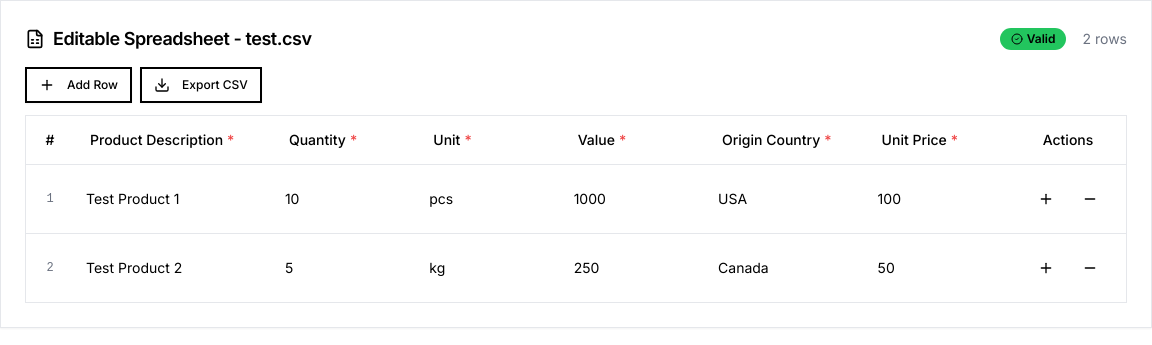
Test case: EditableSpreadsheet Component › Save Functionality › shows save button when data changes
Check: the text "Save Changes" is not shown
Make a change
Click the text "Test Product 1" at {"x": 133, "y": 198}, box [86,188,180,208]
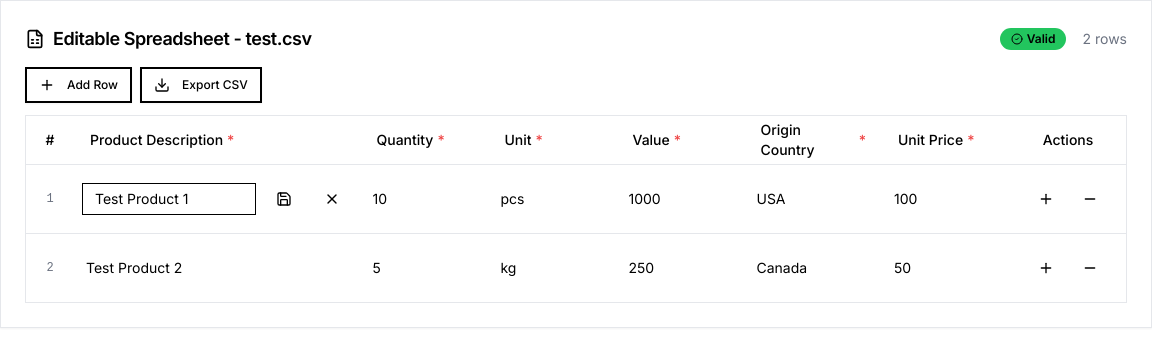
Replace the text in the field showing "Test Product 1" with "Modified Product" at {"x": 169, "y": 198}, box [82,182,256,214]
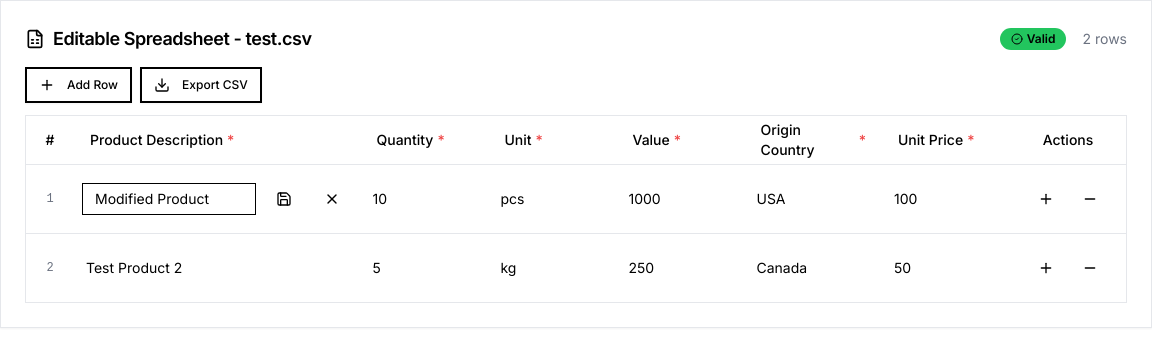
Click the button titled "Save edit" at {"x": 284, "y": 198}, box [264,180,304,216]
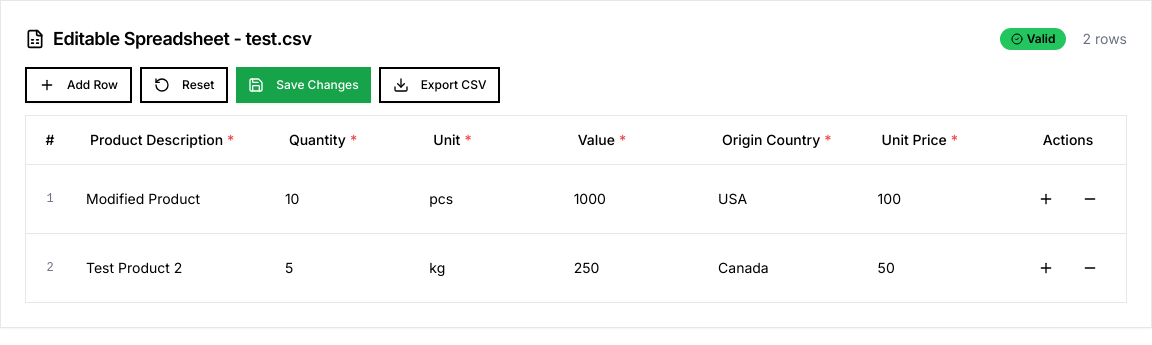
Check: the button "Save Changes" is shown, box [236,67,371,103]
